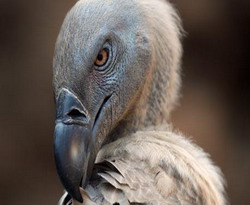Pengoyak Daging: (49, 125, 107, 203)
